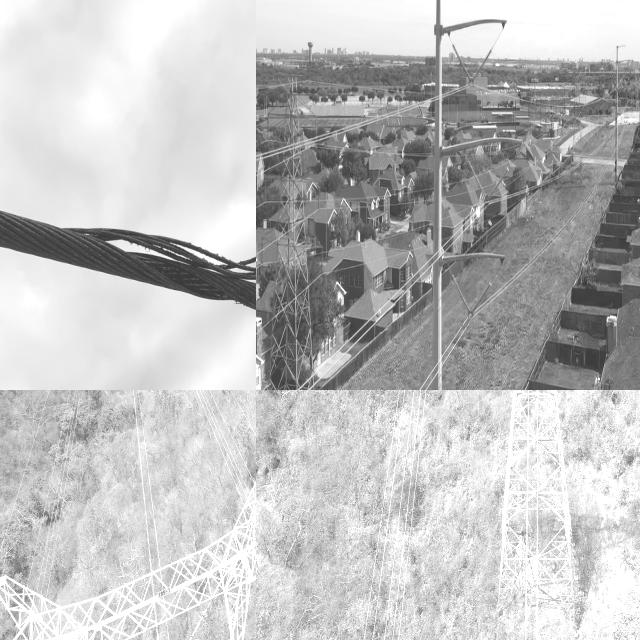杆塔: (411, 390, 640, 640), (0, 444, 256, 640), (265, 60, 325, 390)
正常绝缘子: (480, 158, 514, 210), (462, 150, 491, 208), (465, 42, 498, 92), (447, 34, 477, 88), (447, 266, 476, 321), (466, 274, 497, 322), (186, 609, 208, 640)
电缆破损: (69, 185, 256, 346)
